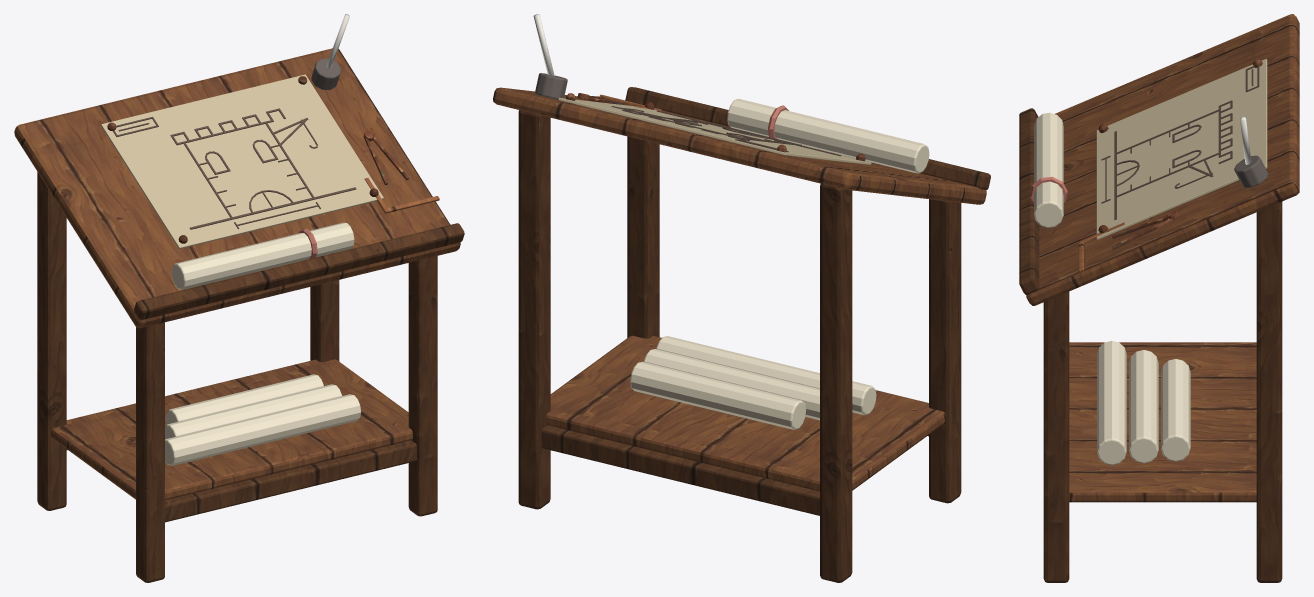
Rendered from blueprint_table.glb.
The picture shows the model from 3 angles, left to right: view 1: azimuth 30°, elevation 25°; view 2: azimuth 150°, elevation 25°; view 3: azimuth 270°, elevation 25°; orthographic projection. The views are drawn at different scales.
Parts seen in each view (by area): view 1: model; view 2: model; view 3: model.
Part boxes in pixels (box(x1,y1,x2,y2)): model: box(14, 14, 464, 582); model: box(493, 14, 990, 582); model: box(1019, 14, 1299, 582).
Size of the model in its own units: 0.955 by 1.21 by 0.6583.
11 materials, 5 textured.
